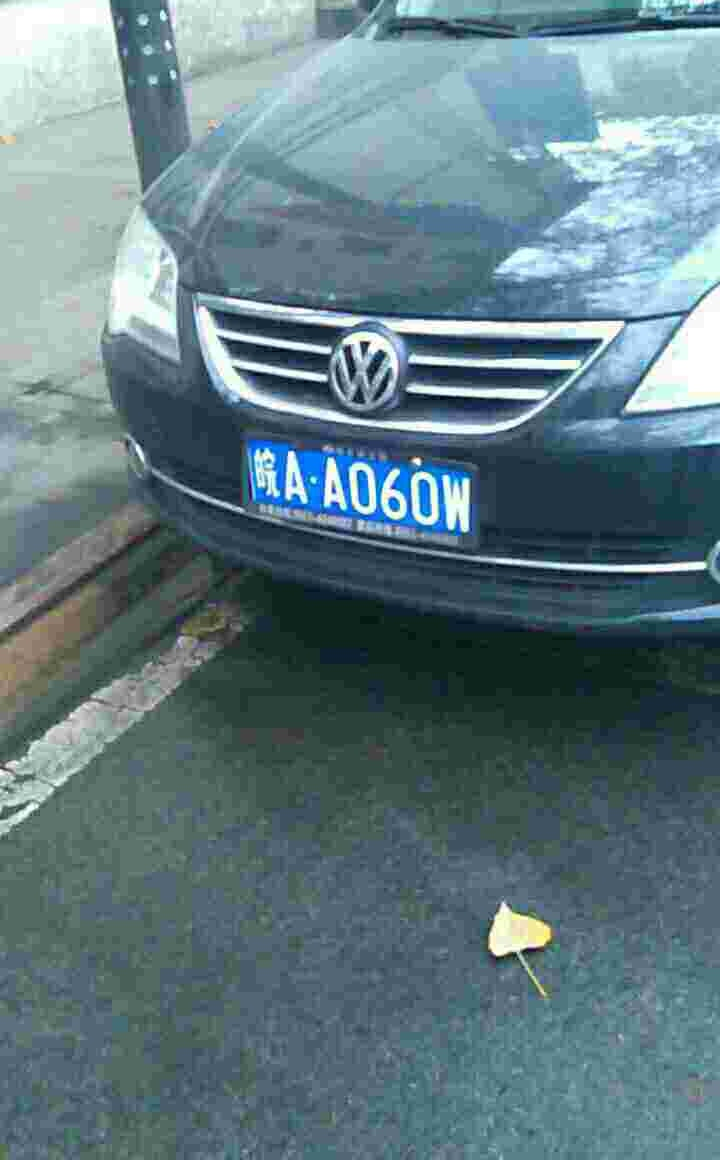license_plate: (248, 438, 481, 546)
